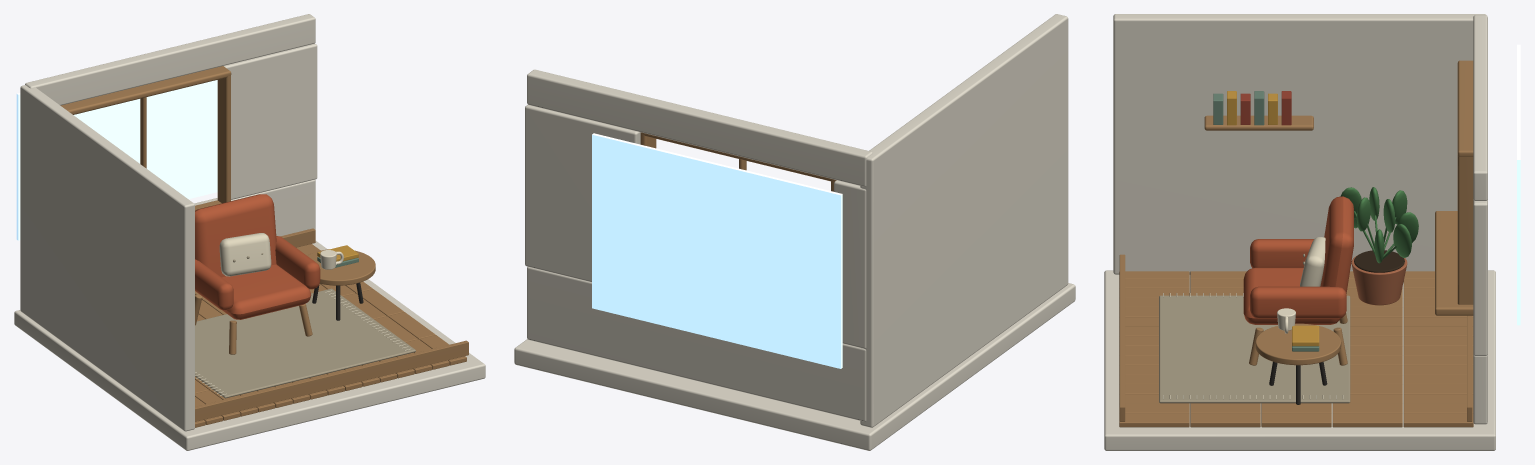
Rendered from result.glb.
3 views of the same model, side by side, from view 1: azimuth 30°, elevation 25°; view 2: azimuth 150°, elevation 25°; view 3: azimuth 270°, elevation 25° (orthographic). The views are drawn at different scales.
Visible parts, largest first — view 1: Side wall, Woven rug, Back right pier, Room foundation, Distant sky, Back wall lintel, Oak skirting, Chair back, Chair seat, Back wall below window, Window frame.001, Linen cushion (+7 smaller); view 2: Side wall, Distant sky, Back wall below window, Room foundation, Back wall lintel, Back right pier, Back left pier, Window frame.001; view 3: Side wall, Woven rug, Room foundation, Chair upholstered arm.001, Back wall lintel, Window sill, Window jamb.001, Chair back, Back right pier, Round side table, Chair seat, Chair upholstered arm (+47 smaller).
Boxes of the visible parts, x1,y1,x2,y2 form: Side wall: [20, 85, 194, 431]; Woven rug: [195, 288, 415, 398]; Back right pier: [224, 43, 317, 199]; Room foundation: [14, 241, 485, 450]; Distant sky: [16, 80, 217, 240]; Back wall lintel: [25, 14, 315, 105]; Oak skirting: [195, 340, 468, 421]; Chair back: [195, 194, 276, 277]; Chair seat: [222, 264, 311, 319]; Back wall below window: [194, 179, 315, 236]; Window frame.001: [61, 66, 231, 114]; Linen cushion: [219, 233, 271, 276]; Side wall: [860, 14, 1068, 427]; Distant sky: [592, 133, 842, 368]; Back wall below window: [527, 267, 866, 421]; Room foundation: [514, 283, 1075, 450]; Back wall lintel: [527, 69, 872, 186]; Back right pier: [525, 104, 640, 282]; Back left pier: [834, 180, 866, 348]; Window frame.001: [640, 132, 836, 181]; Side wall: [1113, 14, 1486, 274]; Woven rug: [1159, 295, 1350, 403]; Room foundation: [1104, 270, 1495, 450]; Chair upholstered arm.001: [1250, 286, 1346, 318]; Back wall lintel: [1473, 15, 1487, 200]; Window sill: [1435, 211, 1473, 315]; Window jamb.001: [1457, 155, 1473, 304]; Chair back: [1320, 196, 1353, 293]; Back right pier: [1473, 199, 1487, 355]; Round side table: [1255, 323, 1341, 365]; Chair seat: [1243, 267, 1340, 324]; Chair upholstered arm: [1250, 239, 1313, 268].
Size of what is drawn, in the model's own units: 4.3 by 3.34 by 4.57.
